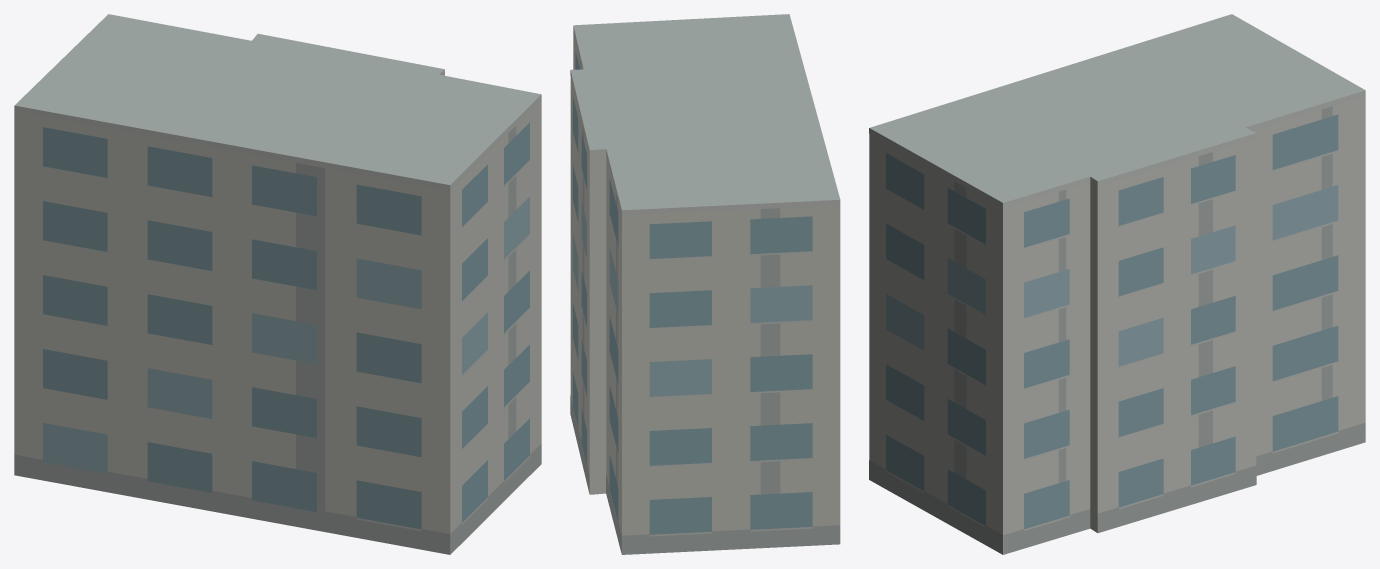
Rendered from survey-upis-32695805.glb.
3 renders of one model, left to right at view 1: azimuth 30°, elevation 25°; view 2: azimuth 150°, elevation 25°; view 3: azimuth 270°, elevation 25°, orthographic. The views are drawn at different scales.
Parts seen in each view (by area): view 1: survey-upis-32695805.tmp; view 2: survey-upis-32695805.tmp; view 3: survey-upis-32695805.tmp.
Boxes of the visible parts, box(x1,y1,x2,y2) form: survey-upis-32695805.tmp: box(14, 14, 541, 554); survey-upis-32695805.tmp: box(570, 14, 840, 554); survey-upis-32695805.tmp: box(869, 14, 1365, 554).
Size of the model in its own units: 17.57 by 15.25 by 19.51.
